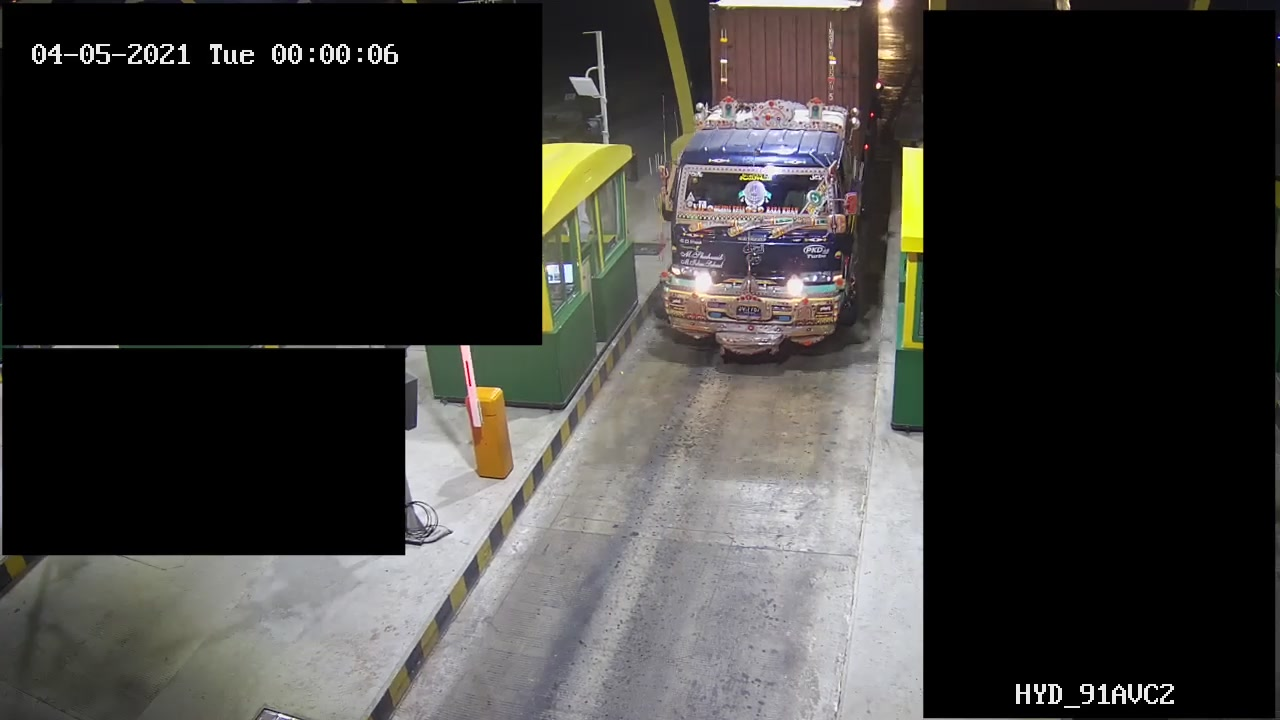F6: (648, 1, 885, 363)
